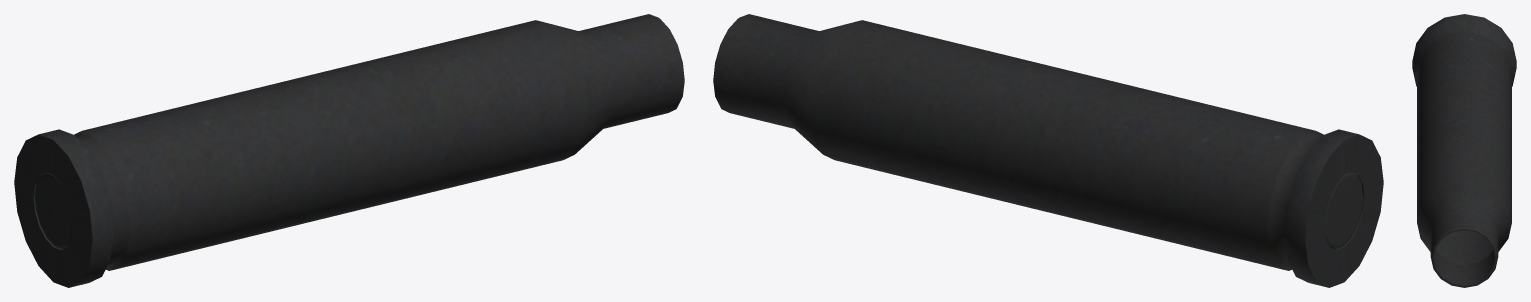
File: Casing.dae
The picture shows the model from 3 angles, left to right: view 1: azimuth 30°, elevation 25°; view 2: azimuth 150°, elevation 25°; view 3: azimuth 270°, elevation 25°; orthographic projection. The views are drawn at different scales.
Visible parts, largest first — view 1: Casing; view 2: Casing; view 3: Casing.
Boxes of the visible parts, x1,y1,x2,y2 form: Casing: (14,14,684,287); Casing: (713,14,1383,287); Casing: (1412,14,1516,287).
Size of the model in its own units: 0.0409 by 0.00916 by 0.00916.
1 material, 1 textured.
